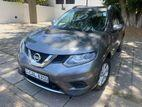car: (18, 4, 127, 97)
